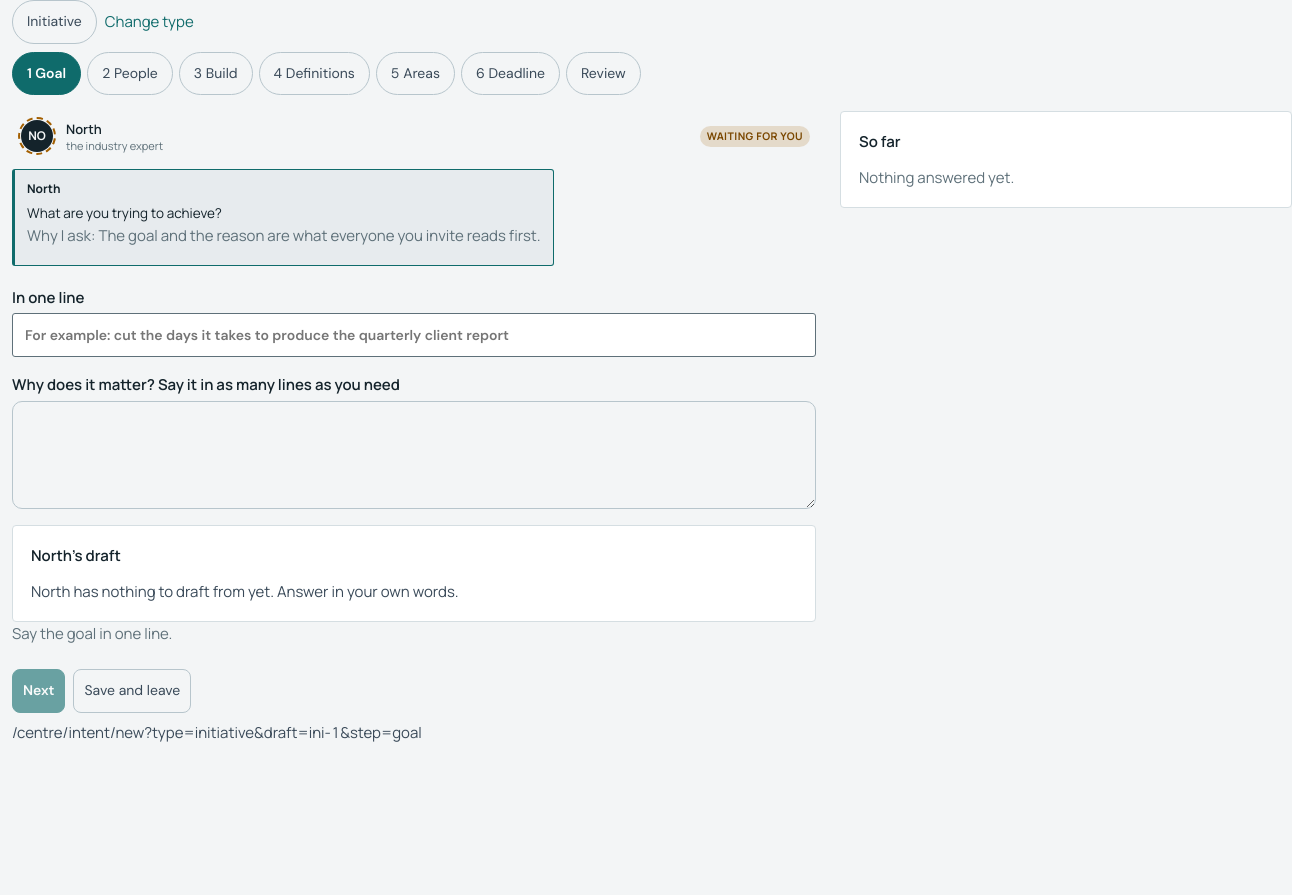
a required answer gates Next; the read-back saves the answer stated
Expected: the button "Next" is disabled, [12,669,66,713]
Expected: the text "Say the goal in one line." is shown, [12,623,172,644]
Replace the text in the field labelled "In one line" with "Cut the days to produce the client report" at point(414, 335), box [12,313,816,357]
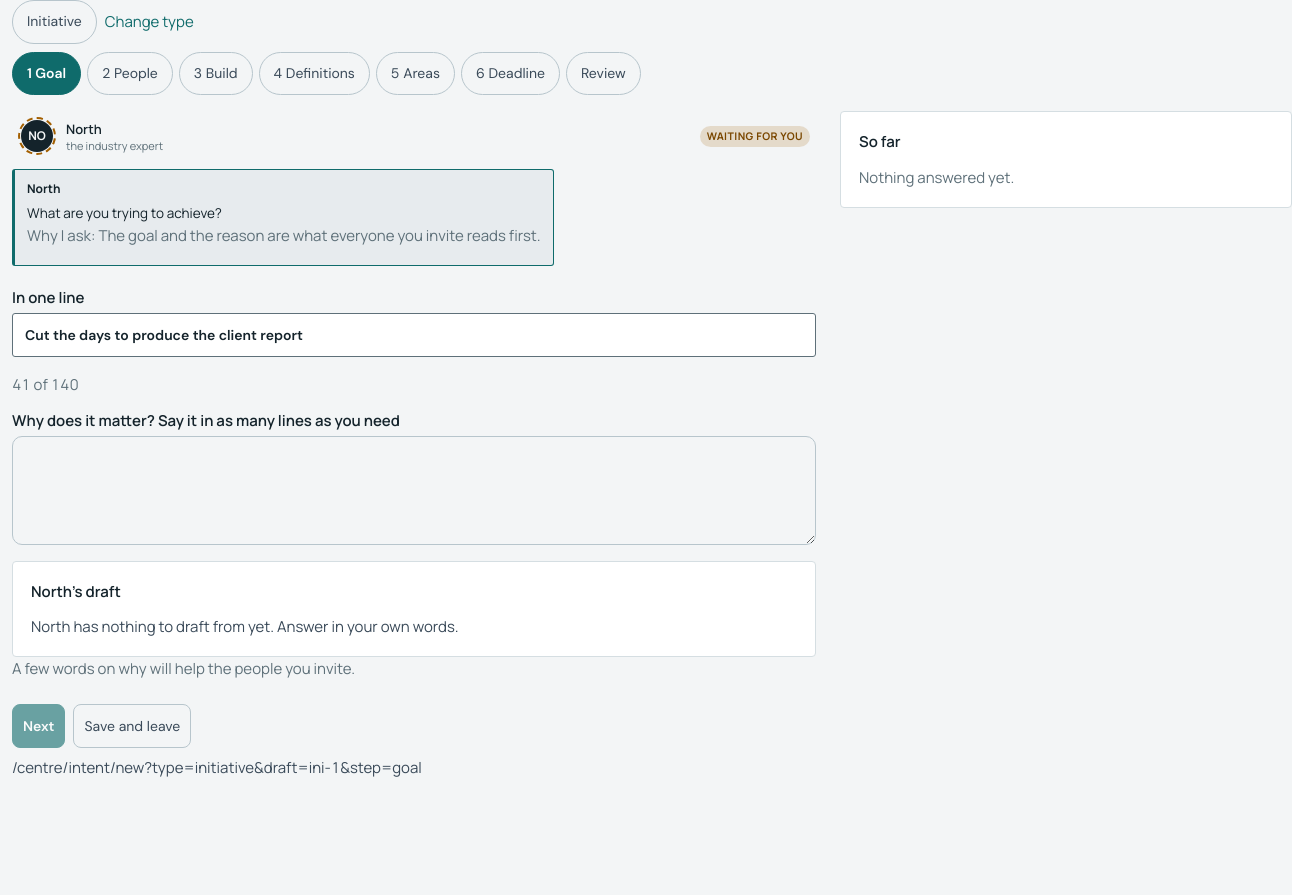
Expected: the text "A few words on why will help the people you invite." is shown, [12,658,355,679]
Type "The family council waits two weeks for it." into the text box labelled "Why does it matter? Say it in as many lines as you need" at point(414, 490), box [12,436,816,545]
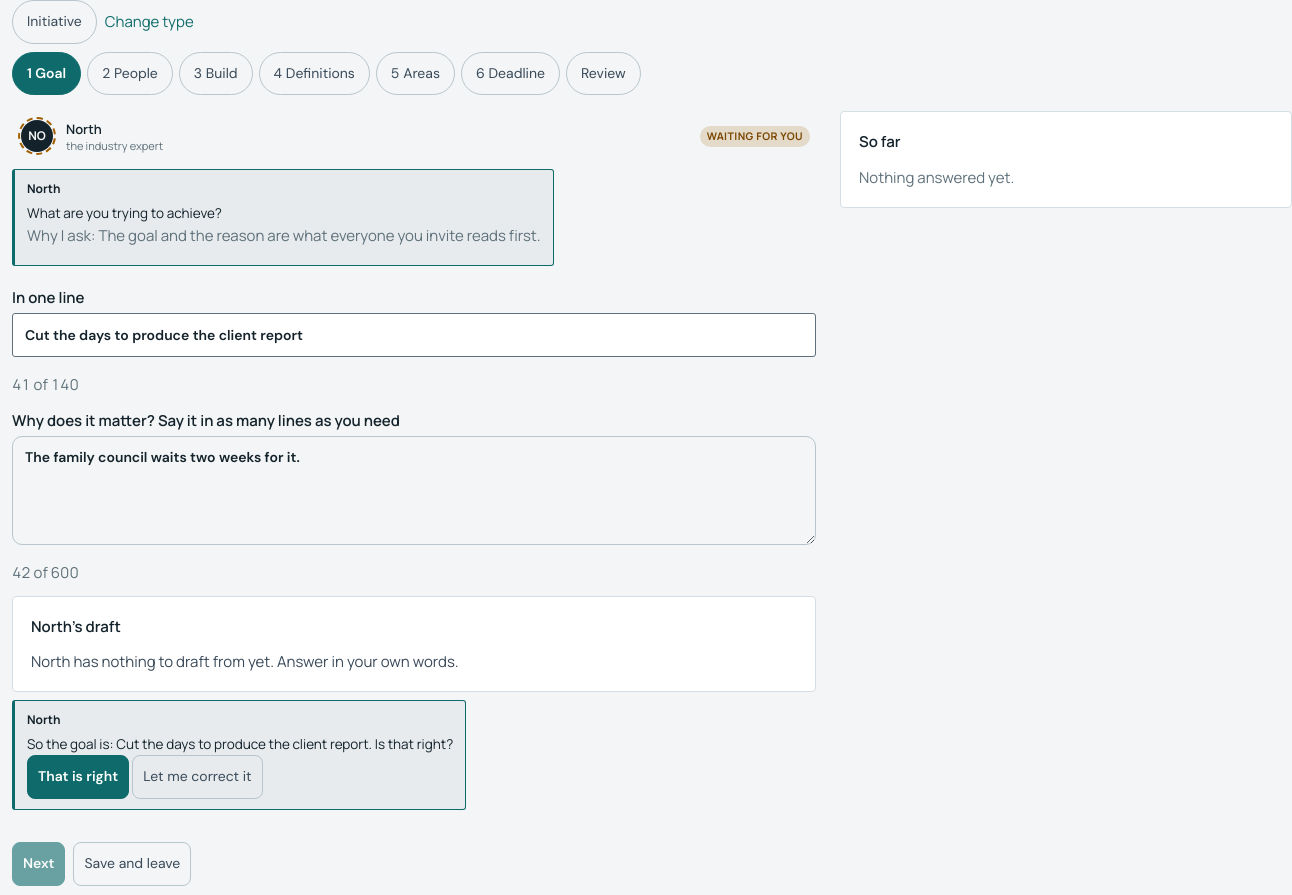
Click the button "That is right" at point(78, 777), box [27,755,129,799]
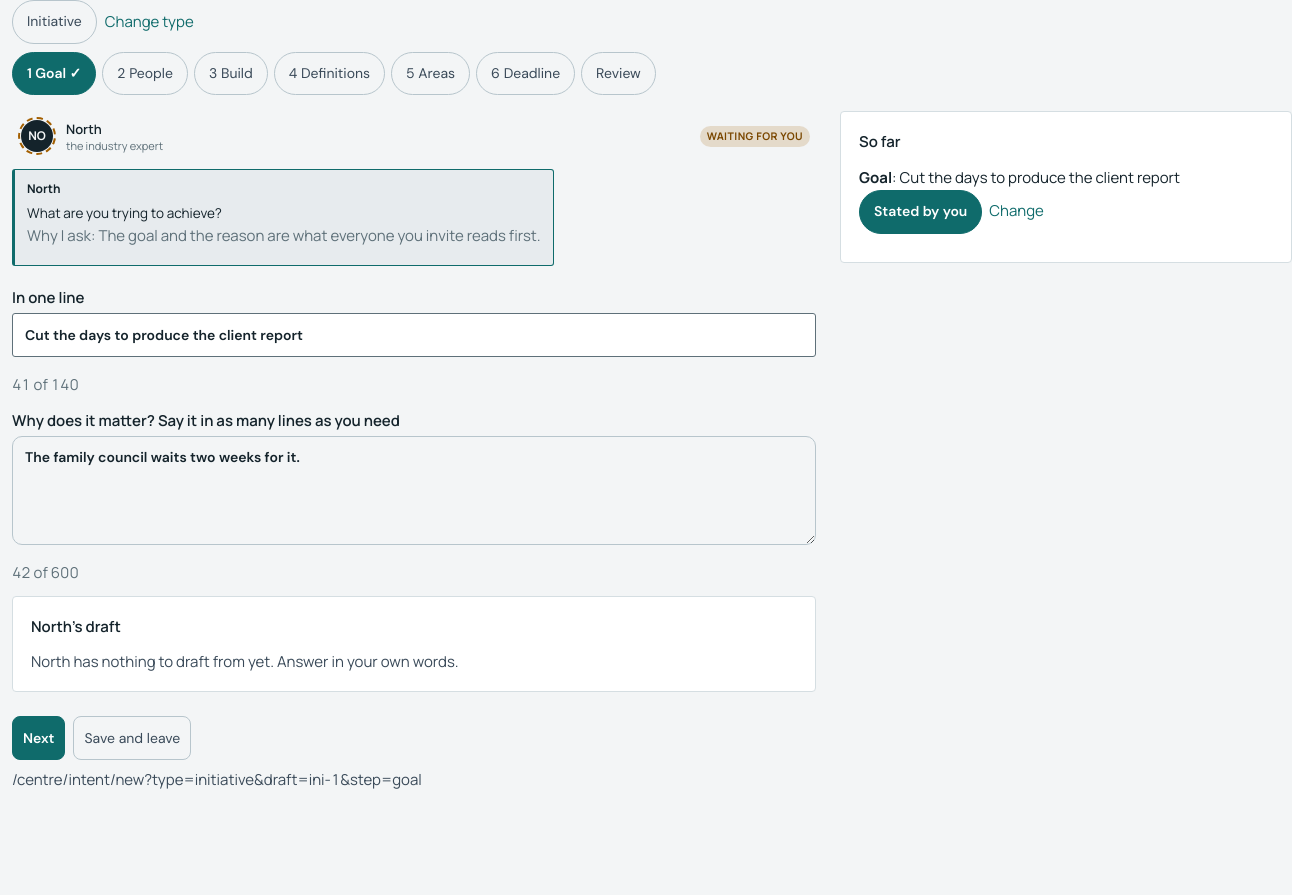
Expected: the button "Next" is enabled, [12,716,66,760]
